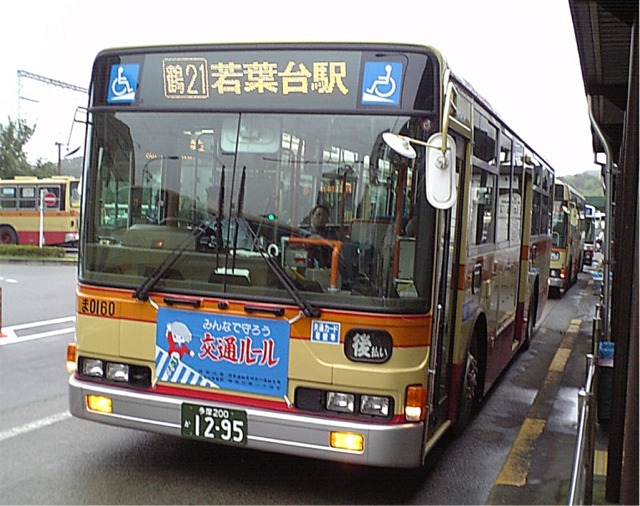destination: (135, 51, 362, 108)
